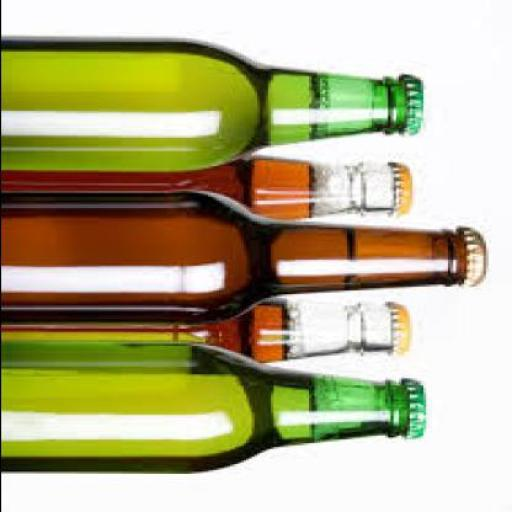glass: (3, 192, 466, 324), (3, 34, 406, 170), (2, 339, 408, 470), (3, 151, 395, 218), (3, 296, 392, 361)
metal: (466, 226, 490, 282), (406, 73, 425, 134), (395, 161, 414, 216), (411, 376, 428, 436), (394, 300, 412, 350)
